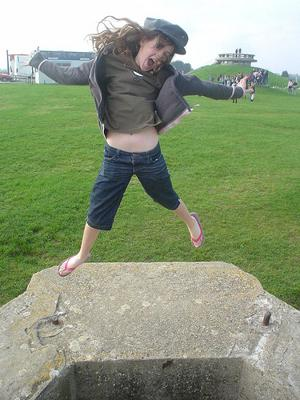person: (24, 18, 254, 284)
